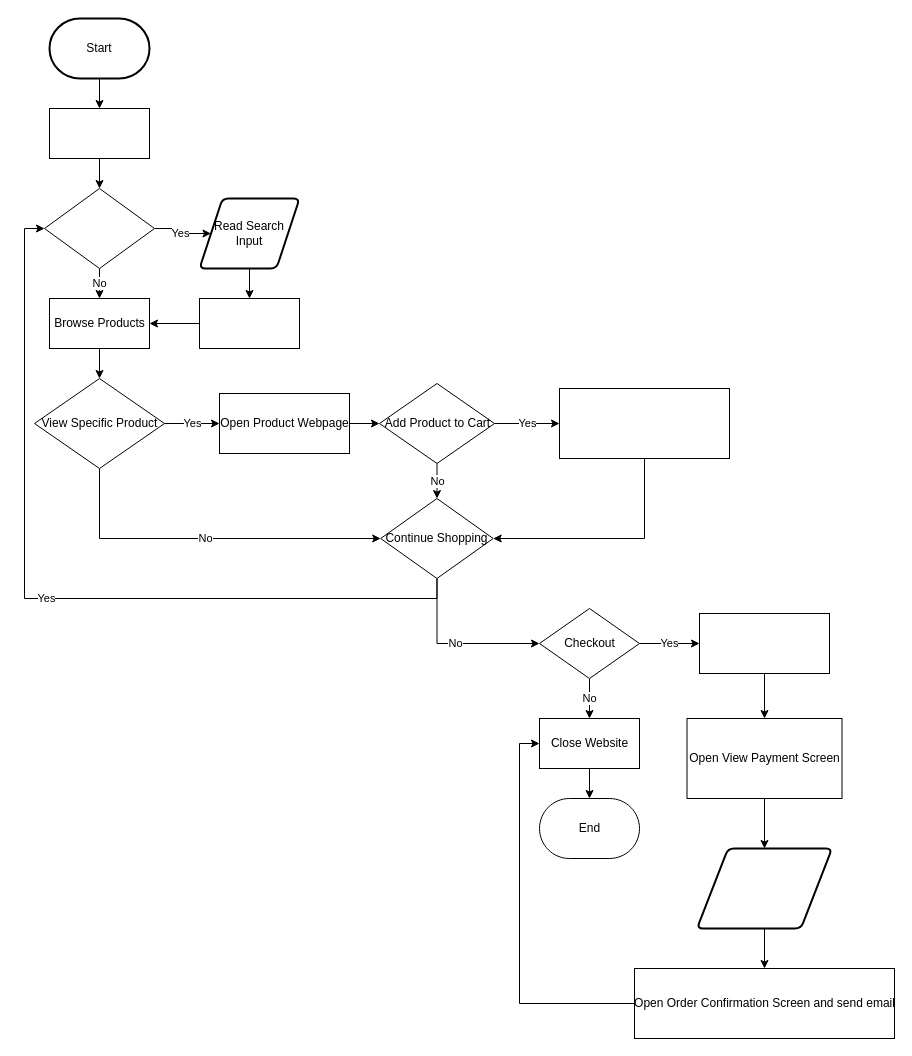
The diagram is 912 pixels wide and 1056 high, and some of its shapes have lost their labels. Here are the shapes that lost their labels. From the top down, the centre of each, then its label:
point (99, 133): Open Website
point (99, 228): Search for Product
point (249, 323): Filter Products
point (644, 423): Open Cart Confirmation Screen
point (764, 643): Open View Cart Screen
point (764, 888): Read payment info
